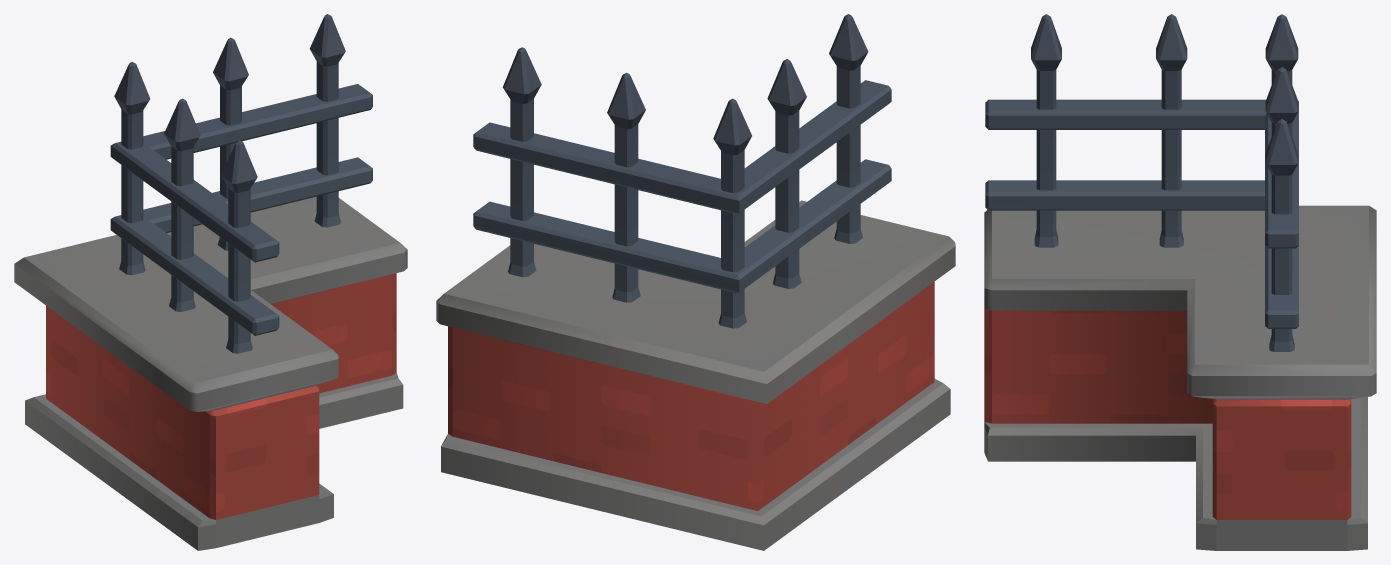
The model's file is BrickWall_6_1.glb.
3 views of the same model, side by side, from view 1: azimuth 30°, elevation 25°; view 2: azimuth 150°, elevation 25°; view 3: azimuth 270°, elevation 25° (orthographic). The views are drawn at different scales.
Parts seen in each view (by area): view 1: BrickWall_6_1; view 2: BrickWall_6_1; view 3: BrickWall_6_1.
Boxes of the visible parts, x1,y1,x2,y2 form: BrickWall_6_1: (14, 14, 407, 550); BrickWall_6_1: (436, 14, 955, 550); BrickWall_6_1: (984, 14, 1376, 550).
Size of the model in its own units: 1.32 by 1.52 by 1.32.
4 materials, 4 textured.
